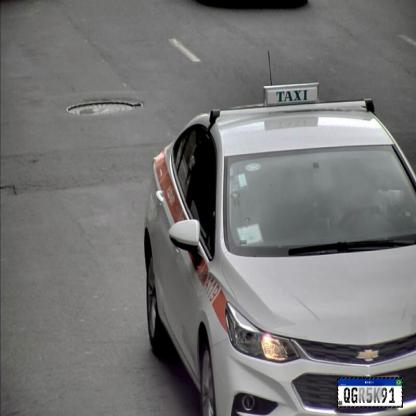PlacaM: (337, 377, 403, 408)
